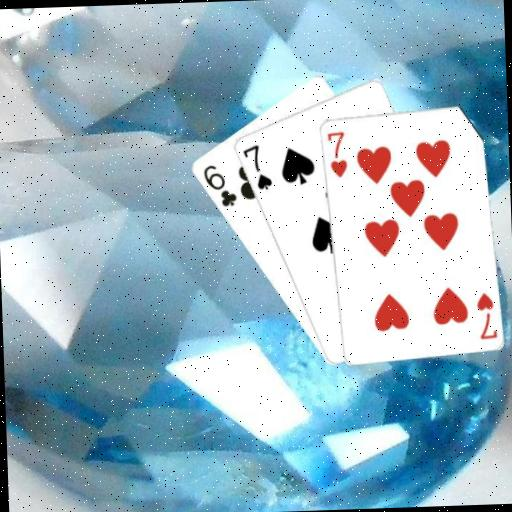6C: (199, 160, 238, 209)
7H: (472, 289, 498, 340), (323, 127, 348, 179)
7S: (239, 140, 273, 191)
